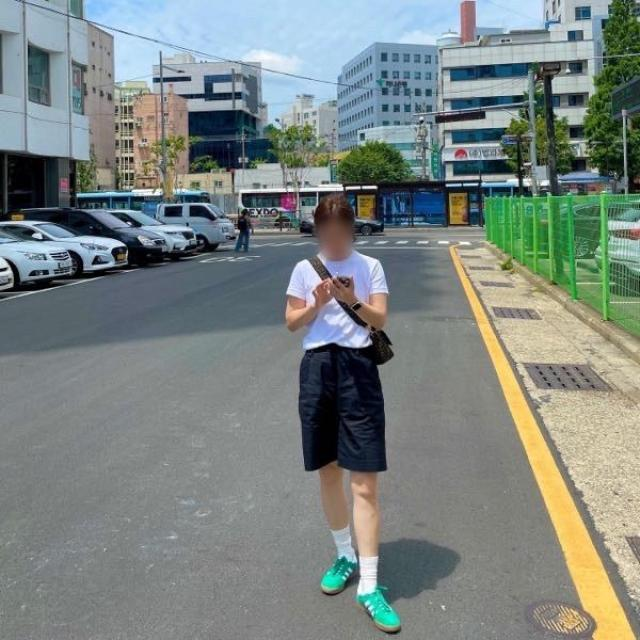shortpants: (296, 342, 387, 477)
shortsleeve: (287, 251, 386, 348)
